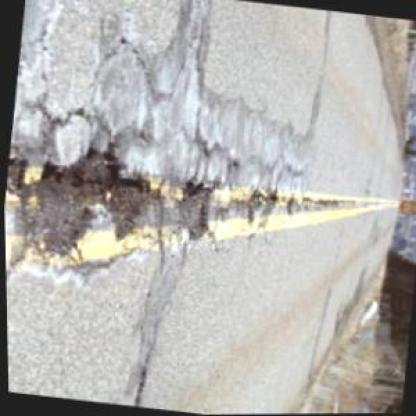pothole: (2, 135, 156, 262), (172, 178, 216, 244)
